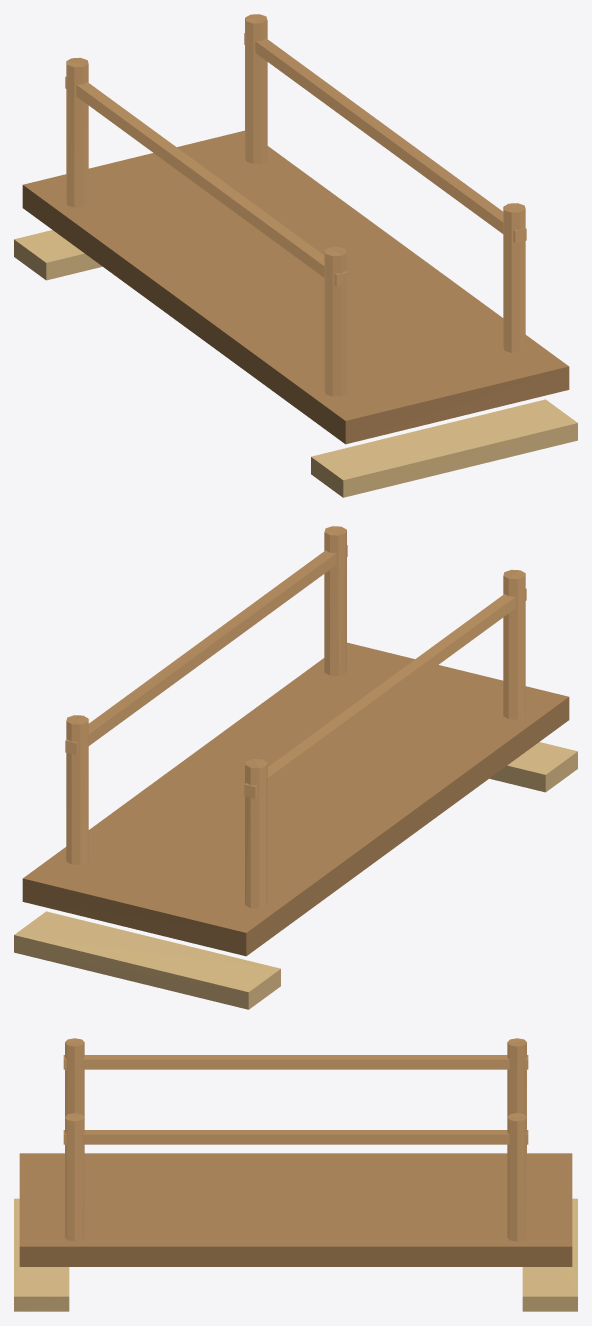
Rendered from Footbridge.glb.
3 views of the same model, one above another, from view 1: azimuth 30°, elevation 25°; view 2: azimuth 150°, elevation 25°; view 3: azimuth 270°, elevation 25° (orthographic). The views are drawn at different scales.
Visible parts, largest first — view 1: footbridge-static-footbridge-timber, footbridge-static-, footbridge-static-footbridge-earth; view 2: footbridge-static-footbridge-timber, footbridge-static-, footbridge-static-footbridge-earth; view 3: footbridge-static-footbridge-timber, footbridge-static-, footbridge-static-footbridge-earth.
Boxes of the visible parts, <box> form: footbridge-static-footbridge-timber: <box>22,130,569,444</box>; footbridge-static-: <box>65,14,526,396</box>; footbridge-static-footbridge-earth: <box>14,230,577,497</box>; footbridge-static-footbridge-timber: <box>22,642,569,956</box>; footbridge-static-: <box>65,526,526,908</box>; footbridge-static-footbridge-earth: <box>14,742,577,1009</box>; footbridge-static-footbridge-timber: <box>19,1153,572,1266</box>; footbridge-static-: <box>63,1038,528,1241</box>; footbridge-static-footbridge-earth: <box>14,1198,577,1311</box>.
Size of the model in its own units: 2.1 by 1.83 by 5.1.
